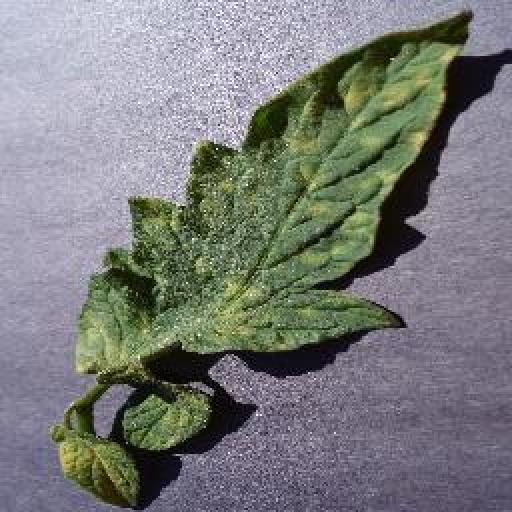Leaf Mold: (76, 5, 474, 355), (60, 421, 144, 511)
